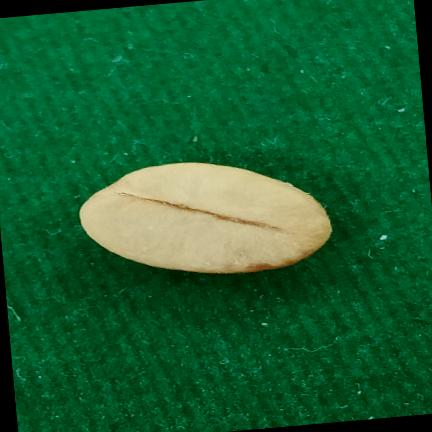parchment: (80, 162, 332, 274)
